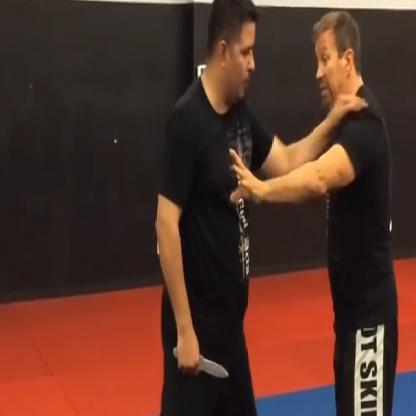knife: (171, 341, 233, 382)
